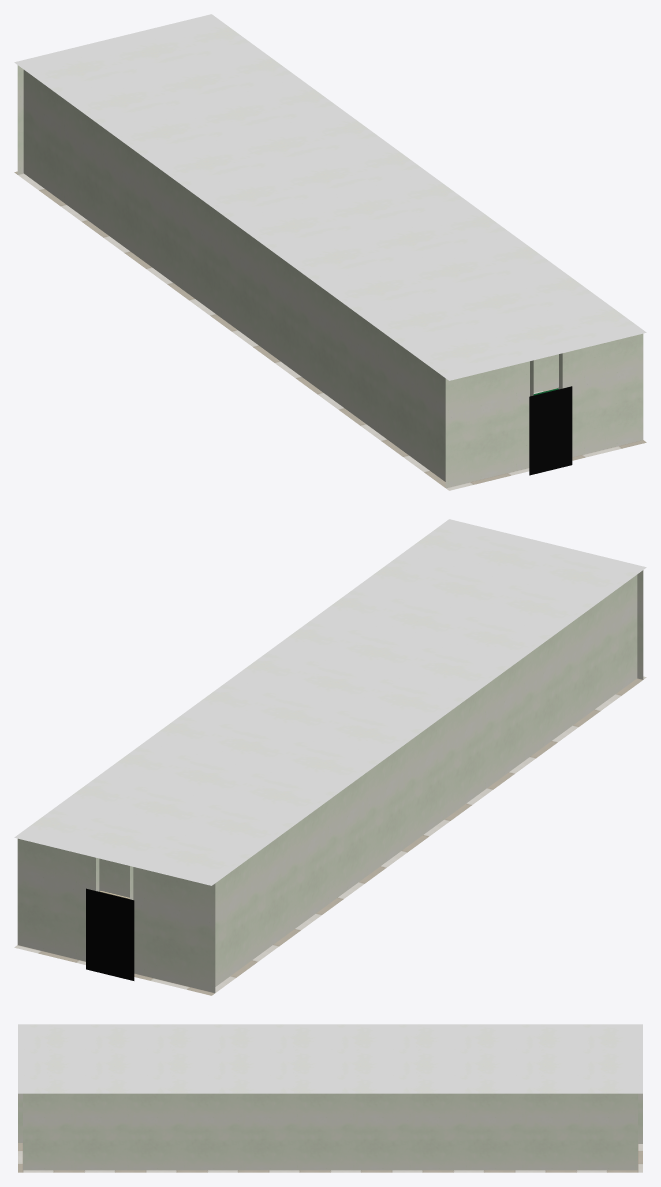
Rendered from rdwe_painted_door.glb.
3 renders of one model, top to bottom at view 1: azimuth 30°, elevation 25°; view 2: azimuth 150°, elevation 25°; view 3: azimuth 270°, elevation 25°, orthographic. The views are drawn at different scales.
Parts seen in each view (by area): view 1: Ceil_White, Wall_Teal_Cream, Floor_Checker_Pale, Void; view 2: Ceil_White, Wall_Teal_Cream, Void, Floor_Checker_Pale; view 3: Wall_Teal_Cream, Ceil_White, Floor_Checker_Pale.
Part boxes in pixels (x1=…): Ceil_White: x1=14, y1=14, x2=646, y2=380; Wall_Teal_Cream: x1=17, y1=65, x2=643, y2=487; Floor_Checker_Pale: x1=14, y1=171, x2=646, y2=490; Void: x1=529, y1=386, x2=572, y2=475; Ceil_White: x1=14, y1=519, x2=646, y2=885; Wall_Teal_Cream: x1=17, y1=570, x2=643, y2=992; Void: x1=86, y1=888, x2=134, y2=980; Floor_Checker_Pale: x1=14, y1=676, x2=646, y2=995; Wall_Teal_Cream: x1=18, y1=1093, x2=642, y2=1170; Ceil_White: x1=18, y1=1024, x2=642, y2=1093; Floor_Checker_Pale: x1=18, y1=1143, x2=642, y2=1172.
Bounding box in the file's own units: 6.4 × 3.45 × 24.7.
19 materials, 16 textured.
